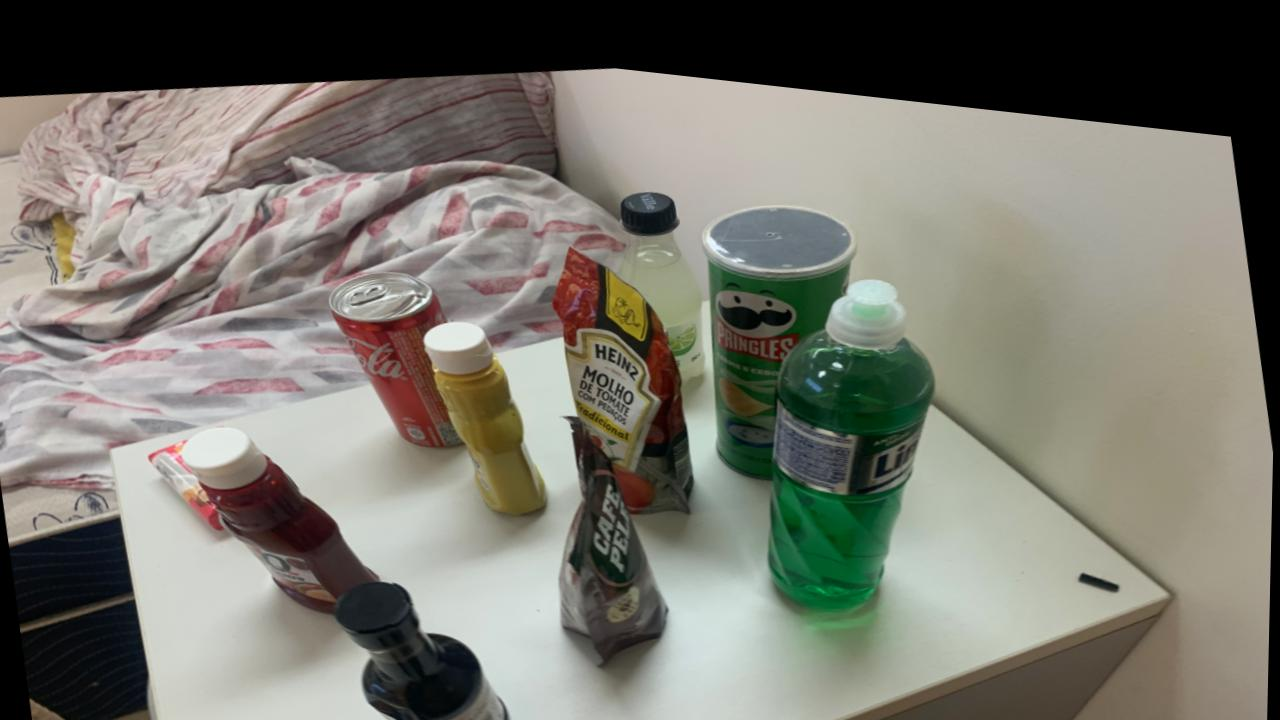Coffee-Pantry_Items: (561, 403, 671, 647)
Coke-Drinks: (332, 263, 463, 436)
Detergent-Cleanup_Items: (770, 258, 936, 588)
English_Sauce-Pantry_Items: (337, 572, 513, 720)
Ketchup-Pantry_Items: (183, 420, 380, 605)
Mustard-Pantry_Items: (424, 310, 549, 502)
Pringles-Snacks: (702, 186, 858, 460)
Soap-Cleanup_Items: (151, 436, 226, 525)
Soda-Drinks: (619, 176, 707, 363)
Tomato_Sauce-Pantry_Items: (553, 235, 695, 497)
